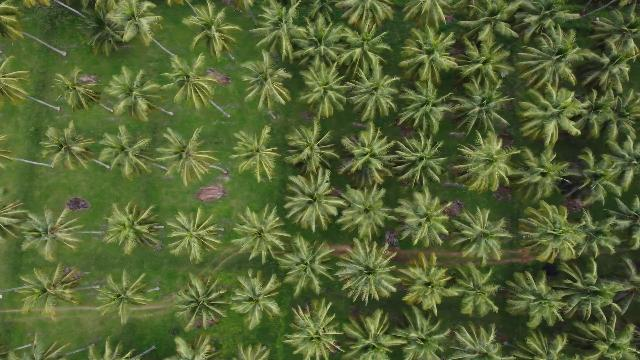trees: (512, 27, 586, 96), (516, 86, 590, 151), (451, 133, 525, 196), (446, 78, 519, 141), (516, 203, 590, 264), (333, 241, 402, 306), (15, 202, 88, 262), (451, 30, 518, 93), (14, 264, 88, 321), (157, 127, 226, 188), (450, 207, 519, 267), (173, 273, 240, 334), (393, 253, 460, 314), (162, 54, 231, 112), (509, 144, 577, 202), (275, 238, 337, 300), (399, 27, 460, 90), (285, 171, 346, 233), (182, 2, 245, 62), (285, 302, 350, 360), (506, 270, 571, 328), (165, 208, 231, 265), (93, 270, 159, 327), (231, 207, 294, 266), (335, 23, 395, 84), (395, 191, 457, 250), (101, 202, 167, 257), (394, 82, 454, 141), (388, 134, 450, 191), (340, 125, 399, 184), (340, 310, 409, 360), (103, 67, 165, 122), (256, 4, 311, 66), (98, 126, 161, 180), (338, 185, 395, 244), (230, 272, 286, 330), (77, 2, 135, 58), (241, 55, 294, 116), (347, 68, 404, 124), (285, 120, 340, 178), (299, 60, 352, 120), (40, 120, 100, 172), (449, 265, 505, 318), (231, 126, 282, 182), (52, 67, 105, 113), (450, 323, 515, 360), (339, 1, 399, 33), (1, 55, 35, 108), (2, 192, 35, 242), (24, 334, 77, 360), (89, 336, 141, 360)
